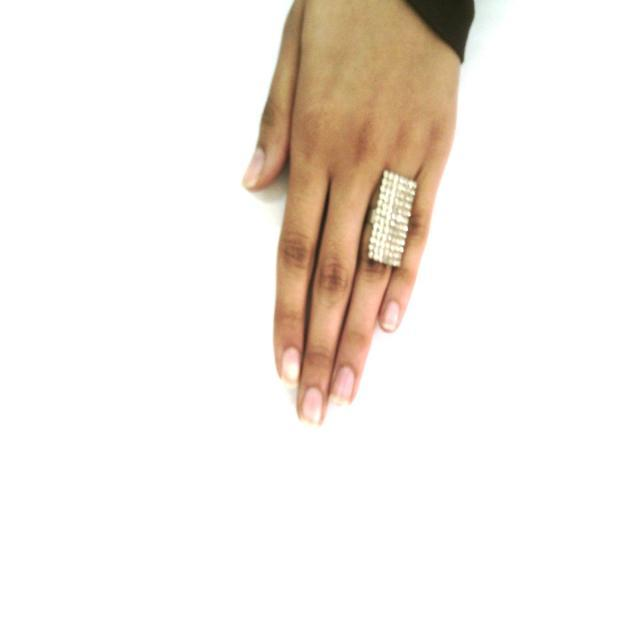Fingernail: (332, 366, 354, 406), (301, 387, 323, 424), (244, 148, 264, 185), (281, 348, 300, 384), (381, 302, 399, 331)
